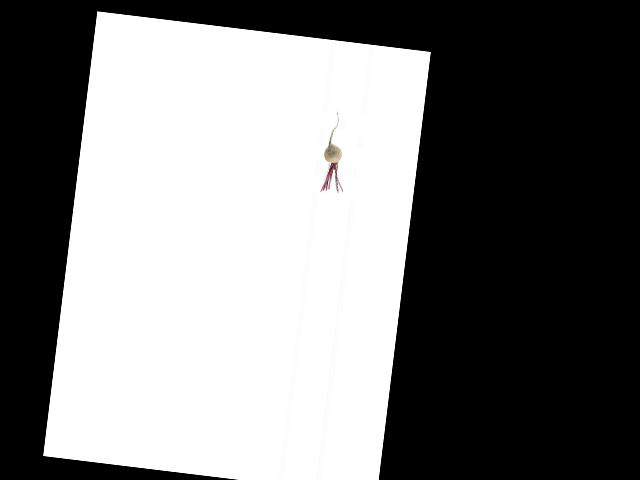beet: (319, 109, 351, 194)
